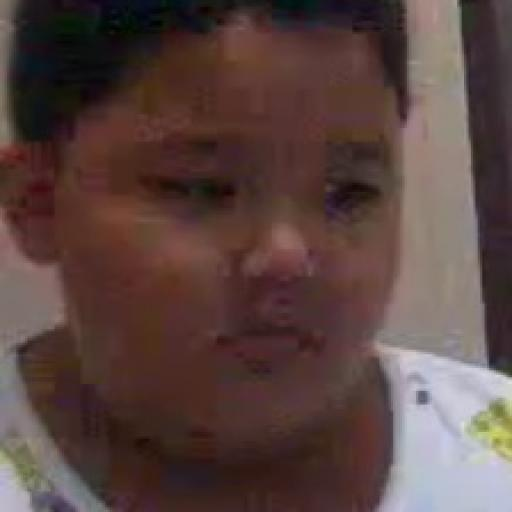Autism: (0, 13, 428, 468)
